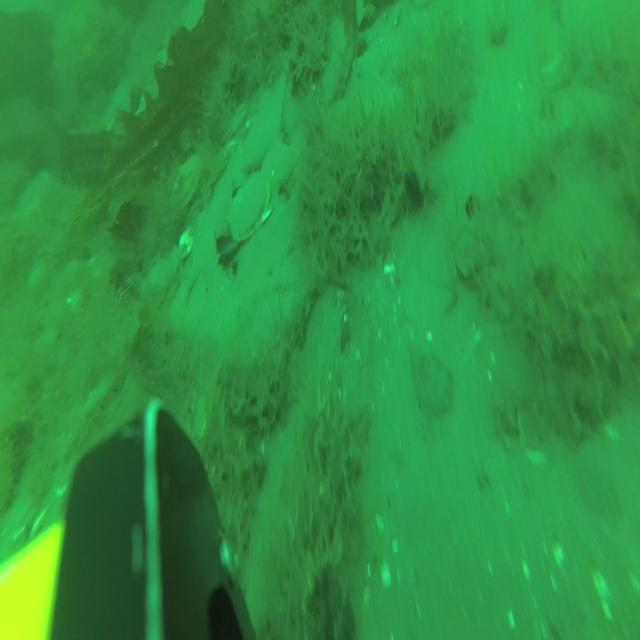scallop: (226, 175, 268, 237), (170, 154, 200, 207), (266, 143, 290, 183)
